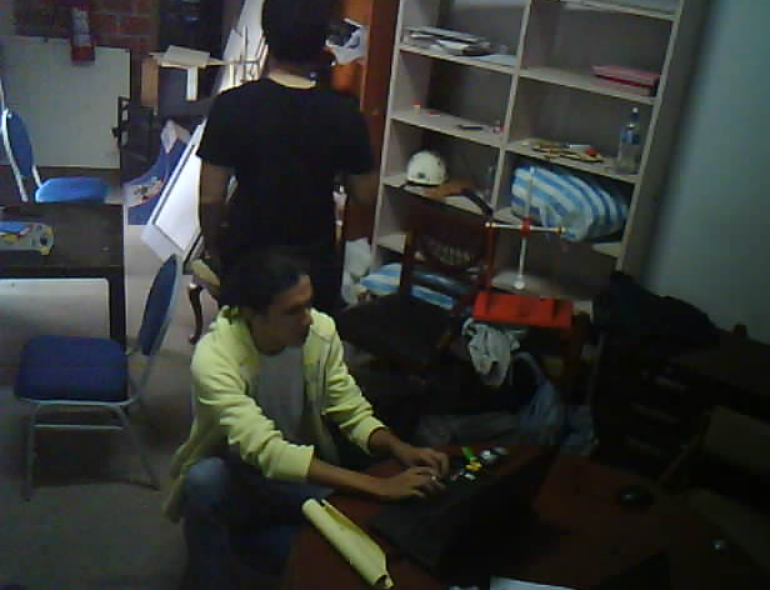person: (153, 237, 463, 590), (188, 0, 375, 323)
